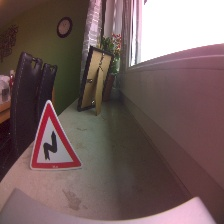vorsicht: (29, 98, 84, 171)
